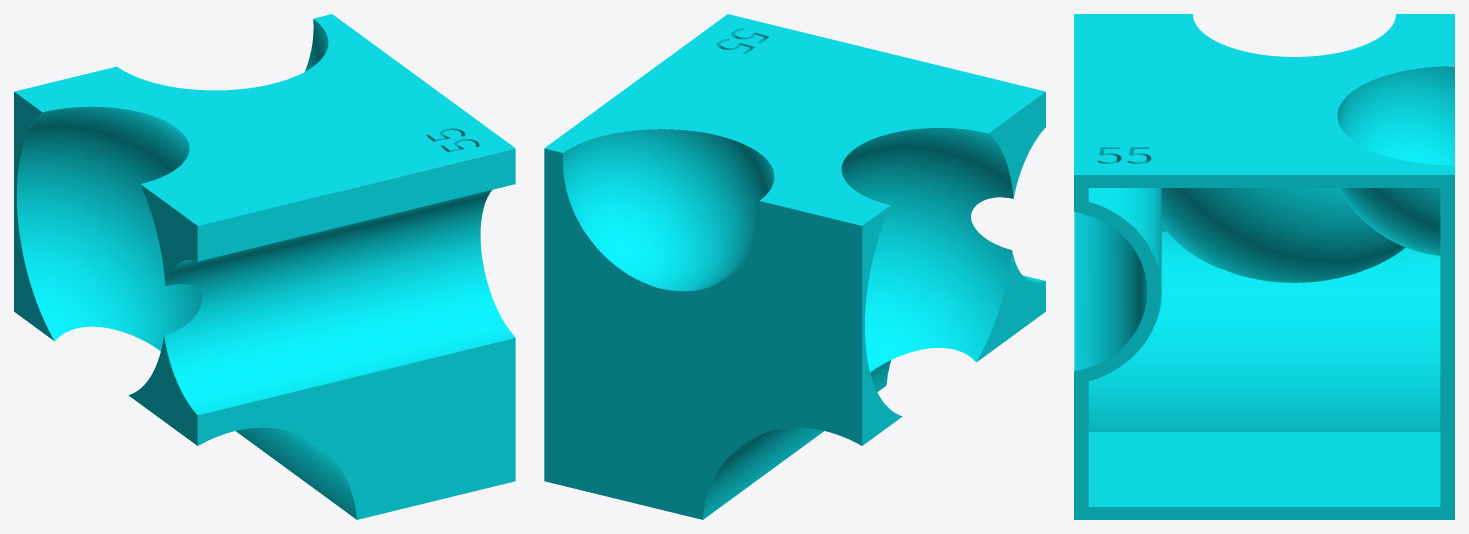
3 renders of one model, left to right at view 1: azimuth 30°, elevation 25°; view 2: azimuth 150°, elevation 25°; view 3: azimuth 270°, elevation 25°, orthographic. The views are drawn at different scales.
Parts seen in each view (by area): view 1: 70_vars_w-txt; view 2: 70_vars_w-txt; view 3: 70_vars_w-txt.
Part boxes in pixels (x1,y1,x2,y2): 70_vars_w-txt: [14, 14, 515, 519]; 70_vars_w-txt: [544, 14, 1045, 519]; 70_vars_w-txt: [1074, 14, 1454, 519].
Bounding box in the file's own units: 0.042 × 0.042 × 0.042.
